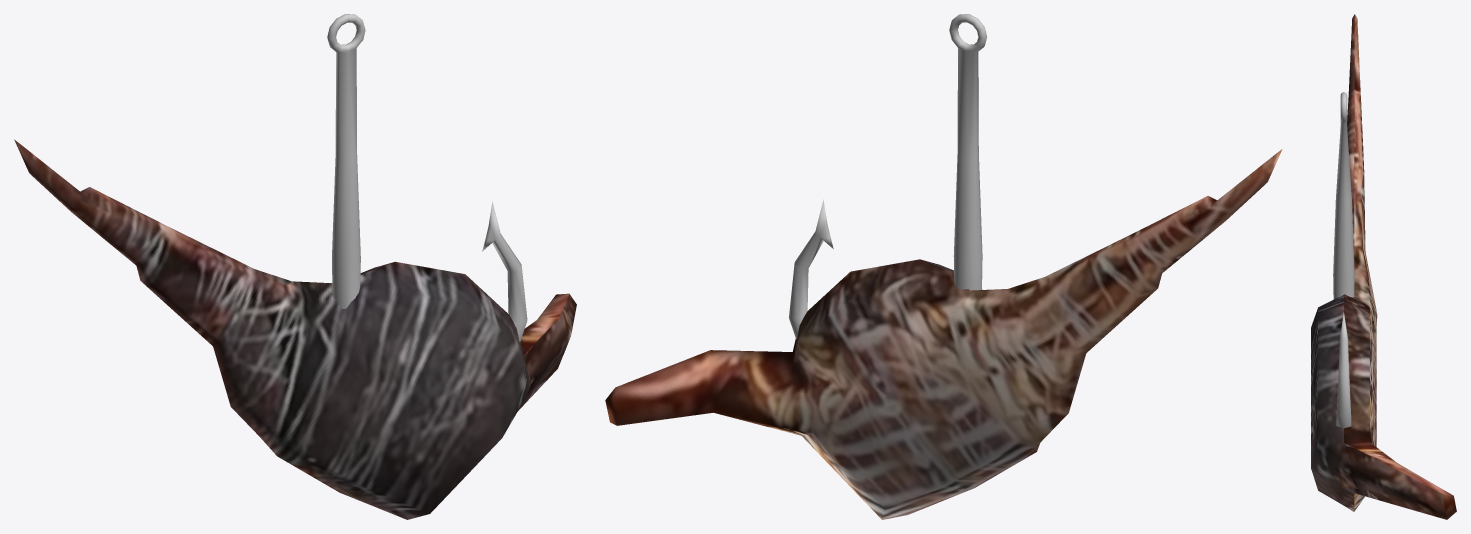
File: Bait_RedClawedCrab.fbx
The picture shows the model from 3 angles, left to right: view 1: azimuth 30°, elevation 25°; view 2: azimuth 150°, elevation 25°; view 3: azimuth 270°, elevation 25°; orthographic projection. The views are drawn at different scales.
Visible parts, largest first — view 1: Bait_RedCrab; view 2: Bait_RedCrab; view 3: Bait_RedCrab.
Boxes of the visible parts, left/top/right/bottom form: Bait_RedCrab: left=14, top=14, right=576, bottom=519; Bait_RedCrab: left=605, top=14, right=1282, bottom=519; Bait_RedCrab: left=1311, top=14, right=1456, bottom=519.
Size of the model in its own units: 0.6616 by 0.5324 by 0.1808.
